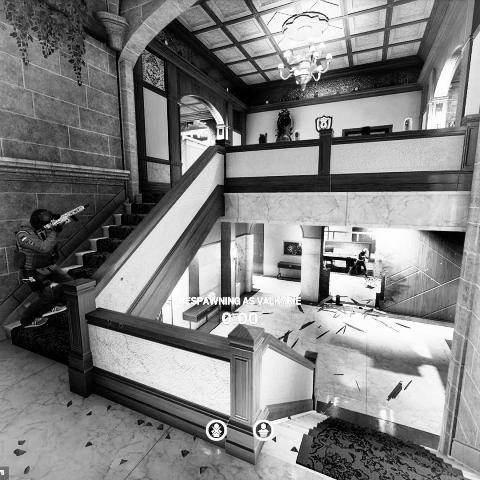Character: (13, 205, 76, 331), (356, 248, 370, 279)
Head: (29, 207, 57, 234), (363, 248, 368, 253)
